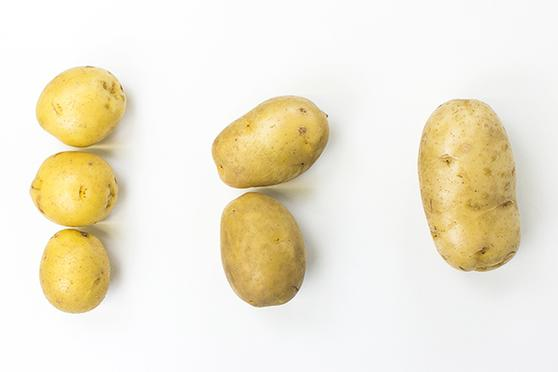potato: (420, 100, 523, 267), (212, 92, 329, 186), (221, 191, 303, 307), (32, 65, 127, 149), (26, 230, 118, 315), (30, 149, 124, 230)
